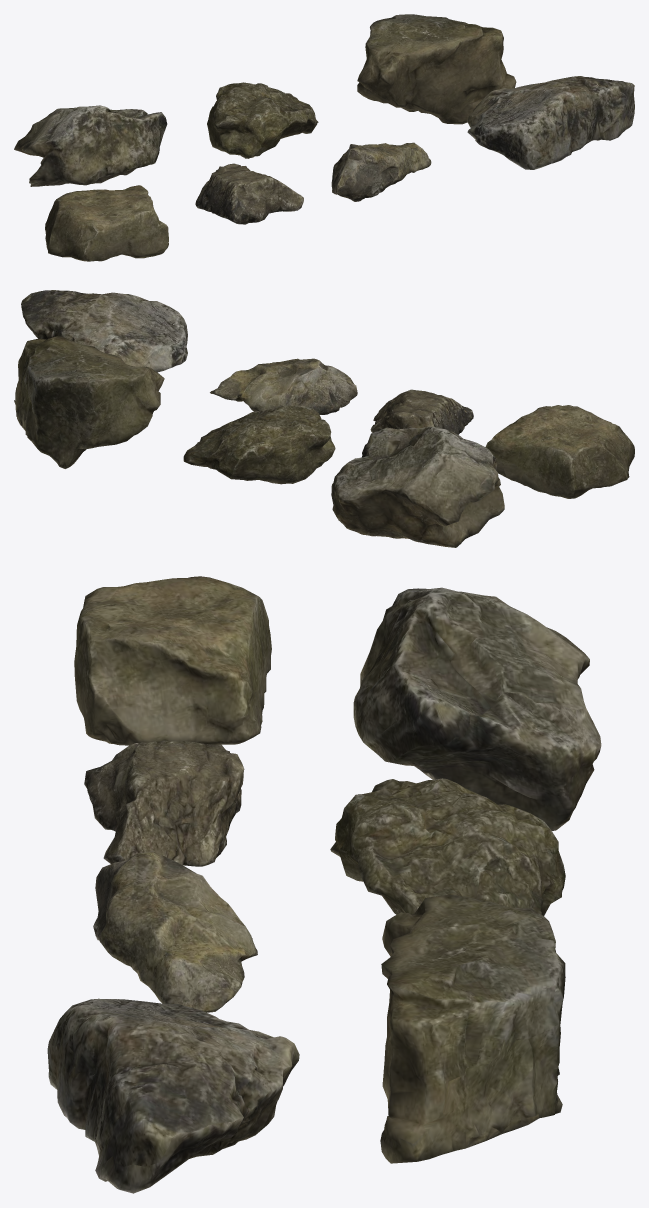
The model's file is rock_moss_set_02.fbx.
3 renders of one model, top to bottom at view 1: azimuth 30°, elevation 25°; view 2: azimuth 150°, elevation 25°; view 3: azimuth 270°, elevation 25°, orthographic. The views are drawn at different scales.
Visible parts, largest first — view 1: rock_moss_set_02_rock13, rock_moss_set_02_rock10, rock_moss_set_02_rock11, rock_moss_set_02_rock07, rock_moss_set_02_rock12, rock_moss_set_02_rock08, rock_moss_set_02_rock09; view 2: rock_moss_set_02_rock11, rock_moss_set_02_rock13, rock_moss_set_02_rock07, rock_moss_set_02_rock10, rock_moss_set_02_rock12, rock_moss_set_02_rock09, rock_moss_set_02_rock08; view 3: rock_moss_set_02_rock13, rock_moss_set_02_rock11, rock_moss_set_02_rock10, rock_moss_set_02_rock07, rock_moss_set_02_rock12, rock_moss_set_02_rock09, rock_moss_set_02_rock08.
Boxes of the visible parts, x1,y1,x2,y2 form: rock_moss_set_02_rock13: (357,14,516,124); rock_moss_set_02_rock10: (467,76,634,169); rock_moss_set_02_rock11: (14,105,167,186); rock_moss_set_02_rock07: (45,185,168,261); rock_moss_set_02_rock12: (207,82,318,158); rock_moss_set_02_rock08: (195,163,303,224); rock_moss_set_02_rock09: (331,142,431,201); rock_moss_set_02_rock11: (331,426,504,547); rock_moss_set_02_rock13: (14,335,164,468); rock_moss_set_02_rock07: (485,405,634,498); rock_moss_set_02_rock10: (21,290,187,372); rock_moss_set_02_rock12: (183,405,335,484); rock_moss_set_02_rock09: (210,358,357,414); rock_moss_set_02_rock08: (370,389,473,434); rock_moss_set_02_rock13: (380,894,565,1163); rock_moss_set_02_rock11: (353,587,601,830); rock_moss_set_02_rock10: (47,998,299,1193); rock_moss_set_02_rock07: (74,576,271,745); rock_moss_set_02_rock12: (330,778,565,915); rock_moss_set_02_rock09: (93,851,257,1012); rock_moss_set_02_rock08: (84,740,244,866).
Size of the model in its own units: 828 by 136 by 341.
